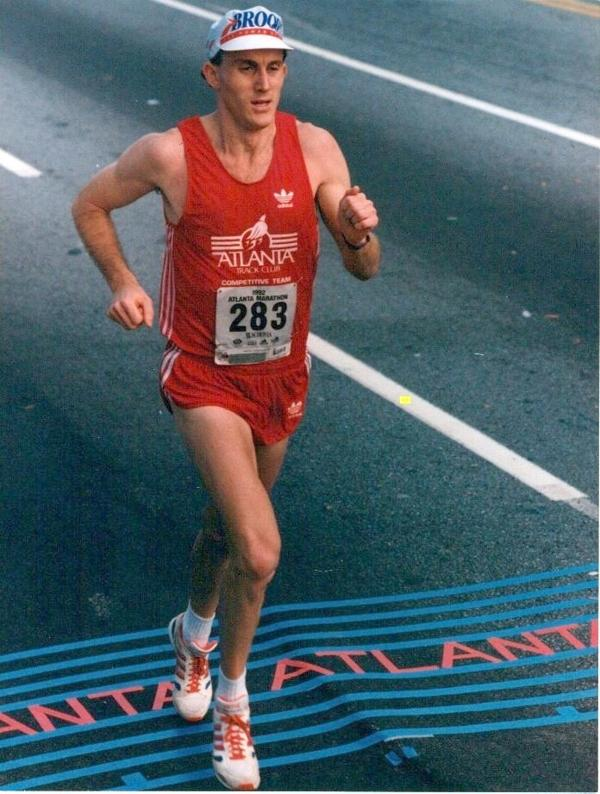person: (73, 9, 383, 792)
